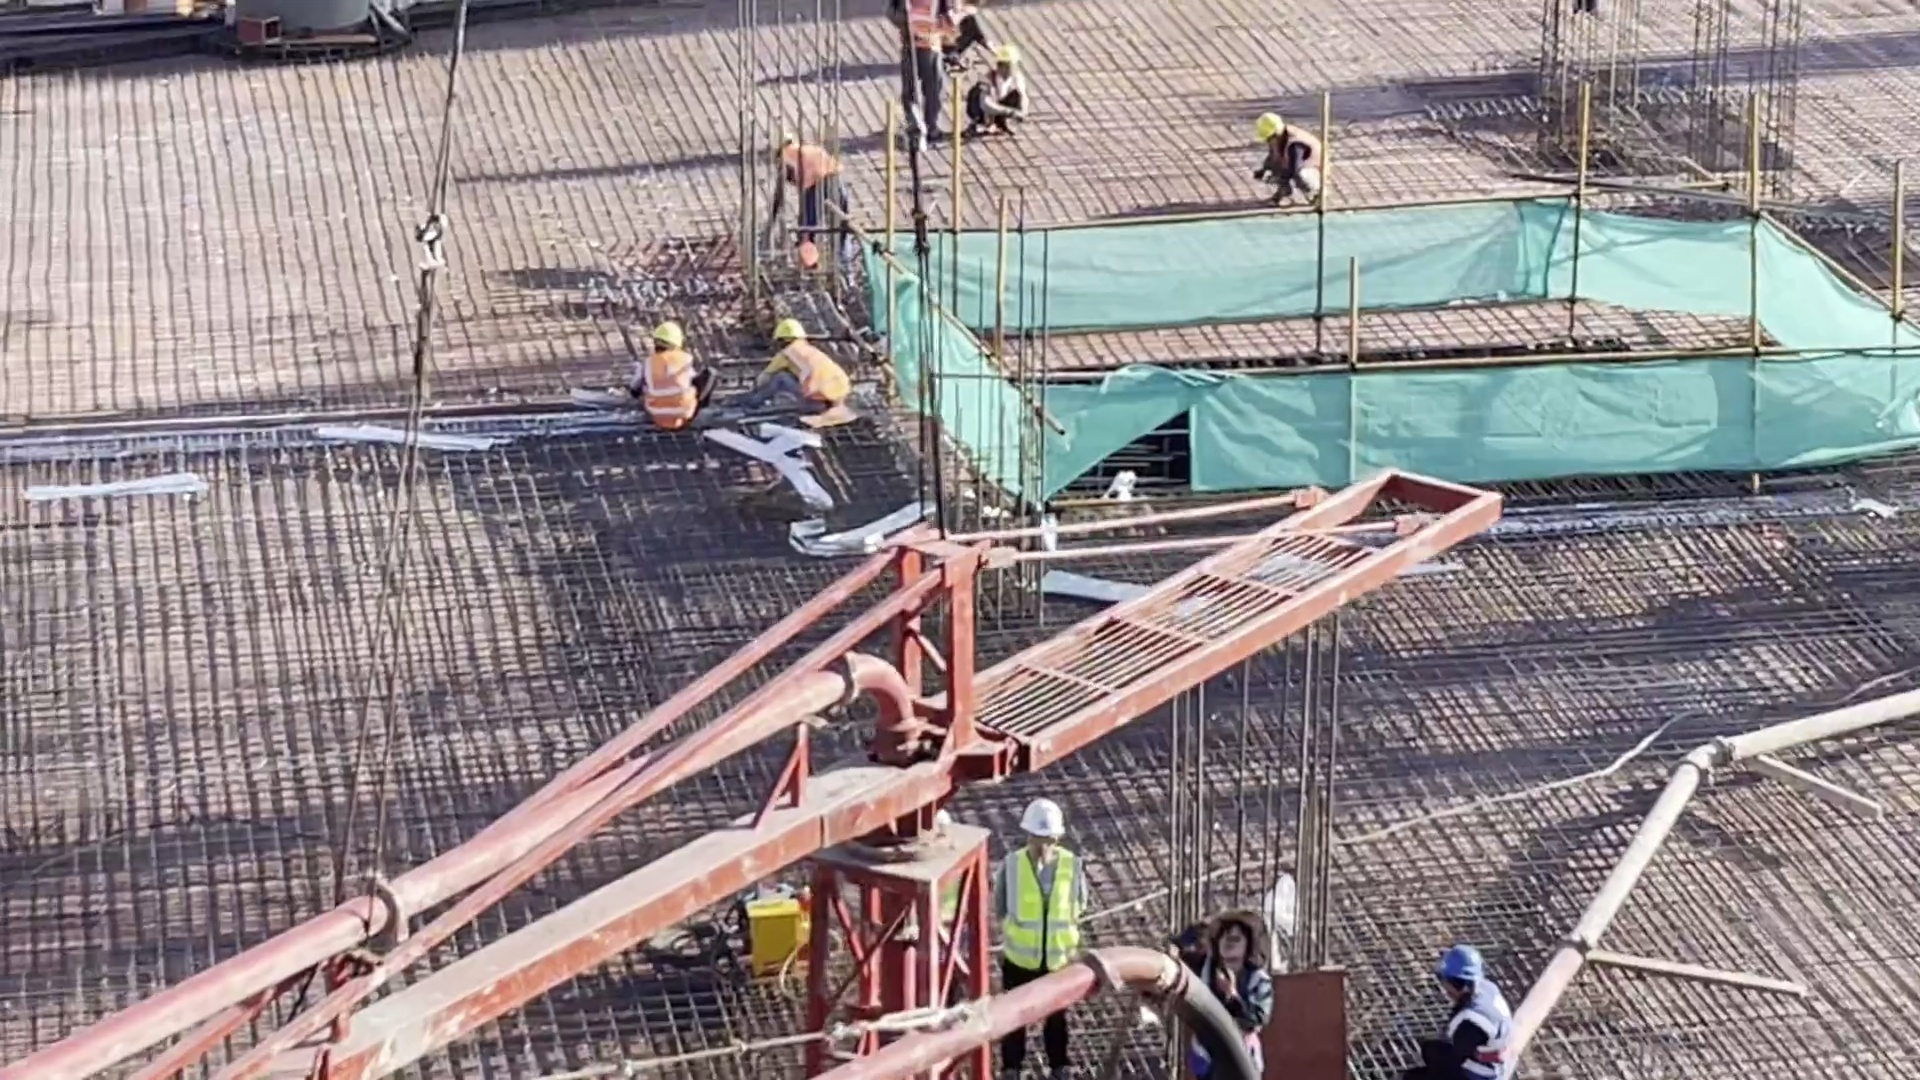helmet: (1204, 907, 1281, 940), (1024, 802, 1074, 842), (1447, 948, 1492, 987), (651, 321, 685, 349), (993, 47, 1024, 72), (778, 321, 815, 340), (1255, 110, 1282, 133)
person: (985, 801, 1091, 1080), (1170, 914, 1278, 1080), (1419, 941, 1514, 1080), (733, 319, 855, 420), (885, 1, 955, 152), (774, 138, 848, 267), (1249, 110, 1334, 219), (635, 320, 705, 445), (962, 44, 1036, 143)
vest: (1009, 856, 1073, 975), (1197, 976, 1273, 1068), (773, 342, 844, 410), (1453, 995, 1505, 1070), (646, 352, 694, 418), (897, 2, 946, 55), (1271, 132, 1320, 171), (784, 151, 835, 188), (984, 79, 1017, 121)
